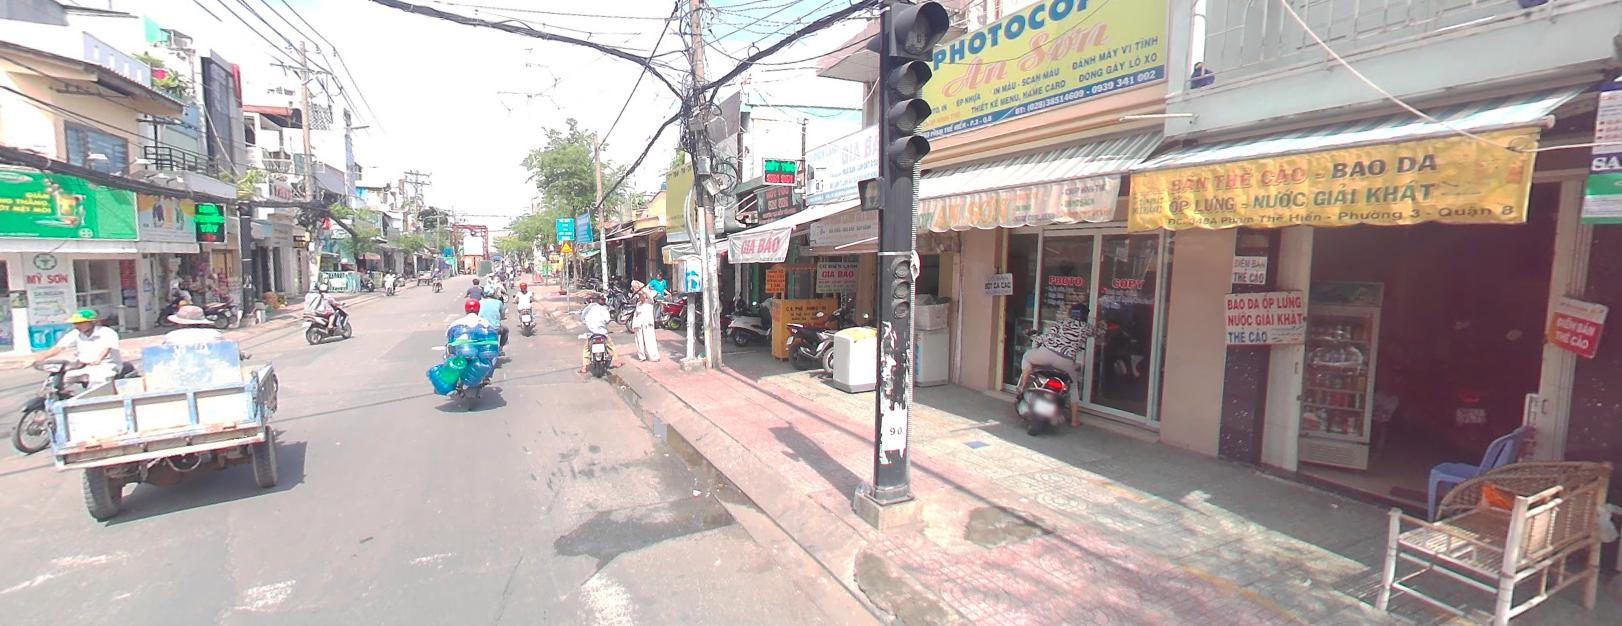Nguy hiem: (559, 240, 573, 251)
